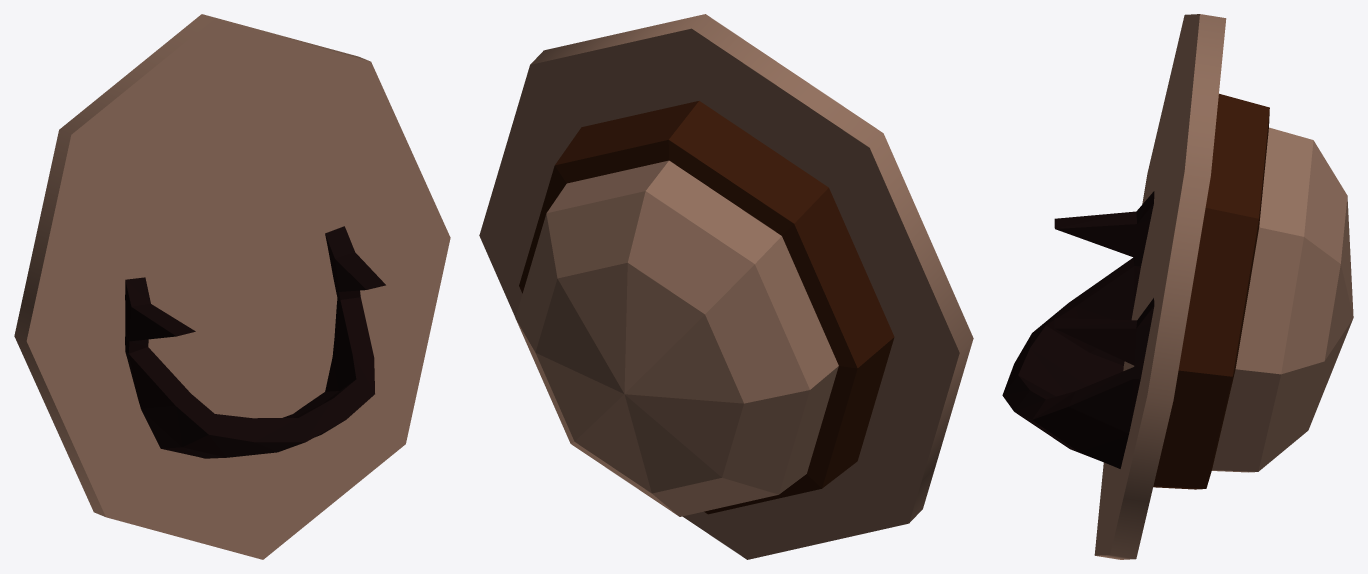
Rendered from Hat 05.FBX.
The picture shows the model from 3 angles, left to right: view 1: azimuth 30°, elevation 25°; view 2: azimuth 150°, elevation 25°; view 3: azimuth 270°, elevation 25°; orthographic projection. The views are drawn at different scales.
Visible parts, largest first — view 1: Hat 05, Hair Headgear; view 2: Hat 05; view 3: Hat 05, Hair Headgear.
Boxes of the visible parts, x1,y1,x2,y2 form: Hat 05: [14, 14, 450, 559]; Hair Headgear: [125, 226, 385, 458]; Hat 05: [479, 14, 973, 559]; Hat 05: [1094, 14, 1353, 559]; Hair Headgear: [1002, 191, 1154, 468].
Size of the model in its own units: 48.84 by 56.01 by 32.65.
